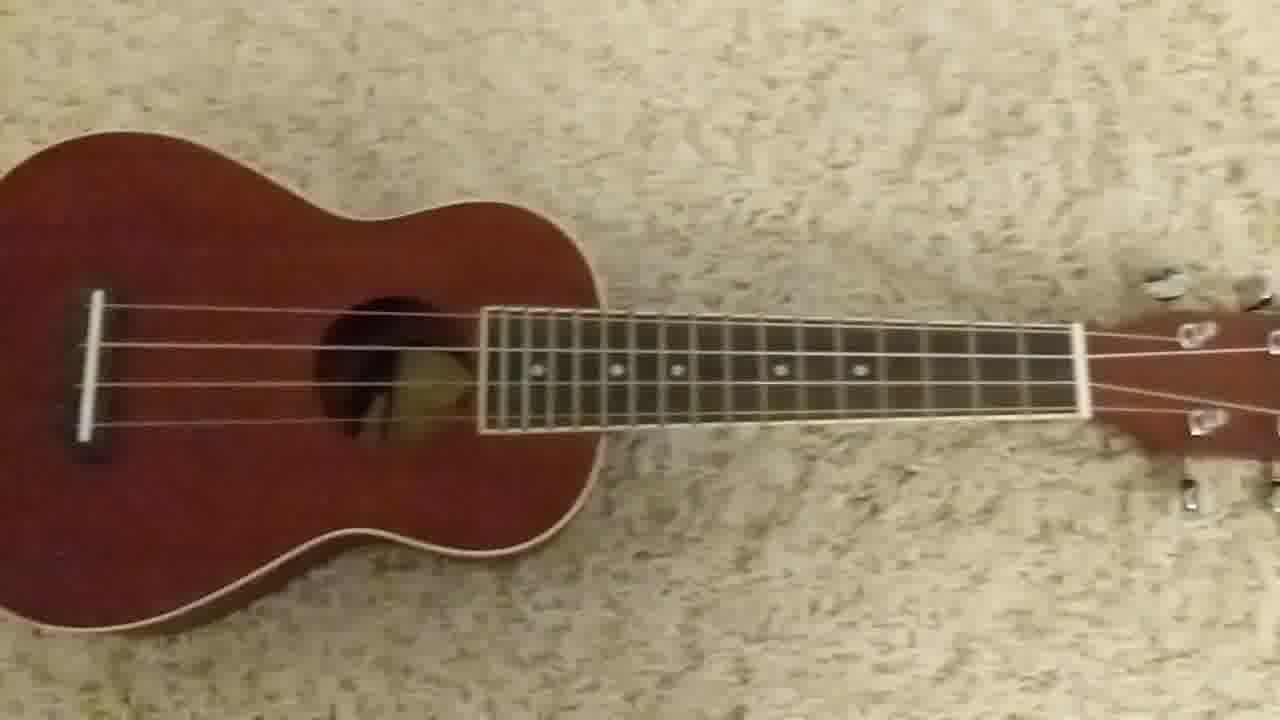Body: (1, 129, 609, 634)
Bridge: (68, 284, 119, 447)
Headstock: (1089, 262, 1280, 519)
